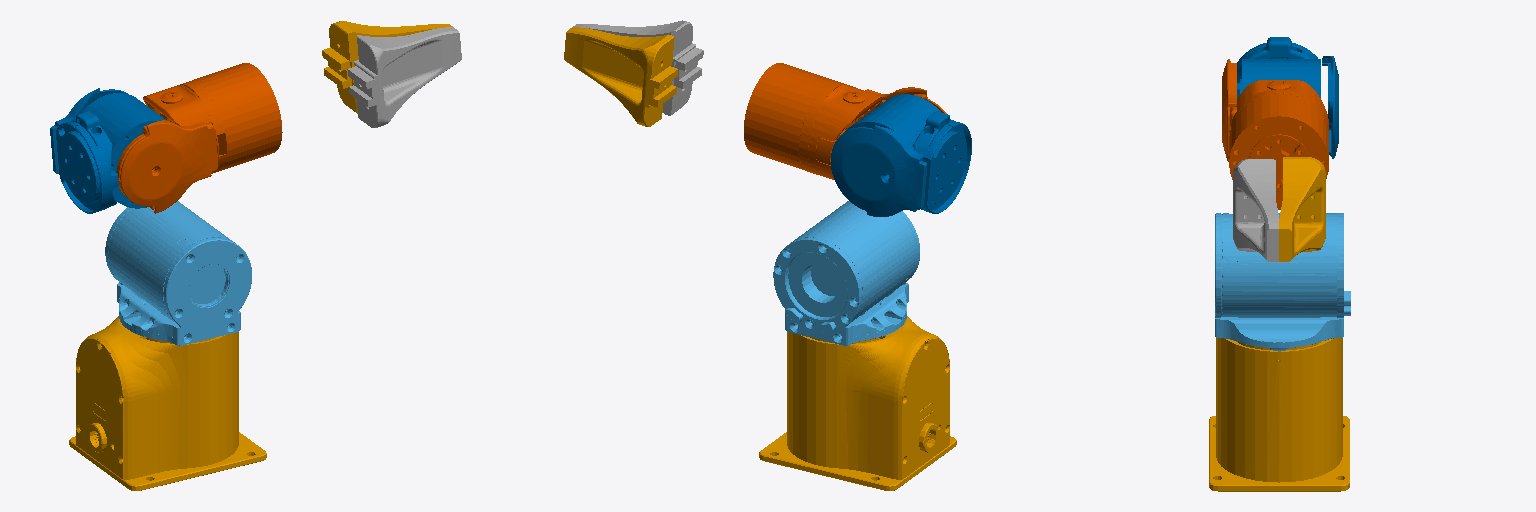
The robot description file, URDF, robot "Piper single":
<?xml version="1.0" ?>
<!-- =================================================================================== -->
<!-- |    This document was autogenerated by xacro from robot.xacro                    | -->
<!-- |    EDITING THIS FILE BY HAND IS NOT RECOMMENDED                                 | -->
<!-- =================================================================================== -->
<robot name="Piper single">
  <link name="base_link">
    <inertial>
      <origin xyz="-0.00473641164191482 2.56829134630247E-05 0.041451518036016"/>
      <mass value="1.02"/>
      <inertia ixx="0.00267433" ixy="-0.00000073" ixz="-0.00017389" iyy="0.00282612" iyz="0.0000004" izz="0.00089624"/>
    </inertial>
    <visual>
      <geometry>
        <mesh filename="package://piper_description/meshes/base_link.obj"/>
      </geometry>
    </visual>
    <collision>
      <geometry>
        <mesh filename="package://piper_description/meshes/base_link.obj"/>
      </geometry>
    </collision>
  </link>
  <link name="link1">
    <inertial>
      <origin xyz="0.000121504734057468 0.000104632162460536 -0.00438597309559853"/>
      <mass value="0.71"/>
      <inertia ixx="0.00048916" ixy="-0.00000036" ixz="-0.00000224" iyy="0.00040472" iyz="-0.00000242" izz="0.00043982"/>
    </inertial>
    <visual>
      <geometry>
        <mesh filename="package://piper_description/meshes/link1.obj"/>
      </geometry>
    </visual>
    <collision>
      <geometry>
        <mesh filename="package://piper_description/meshes/link1.obj"/>
      </geometry>
    </collision>
  </link>
  <joint name="joint1" type="revolute">
    <origin rpy="0 0 0" xyz="0 0 0.123"/>
    <parent link="base_link"/>
    <child link="link1"/>
    <axis xyz="0 0 1"/>
    <limit effort="100" lower="-2.618" upper="2.618" velocity="5"/>
  </joint>
  <link name="link2">
    <inertial>
      <origin rpy="0 0 0" xyz="0.198666145229743 -0.010926924140076 0.00142121714502687"/>
      <mass value="1.17"/>
      <inertia ixx="0.00116918" ixy="-0.00180037" ixz="0.00025146" iyy="0.06785384" iyz="-0.00000455" izz="0.06774489"/>
    </inertial>
    <visual>
      <geometry>
        <mesh filename="package://piper_description/meshes/link2.obj"/>
      </geometry>
    </visual>
    <collision>
      <geometry>
        <mesh filename="package://piper_description/meshes/link2.obj"/>
      </geometry>
    </collision>
  </link>
  <joint name="joint2" type="revolute">
    <origin rpy="1.5708 -0.1359 -3.1416" xyz="0 0 0"/>
    <parent link="link1"/>
    <child link="link2"/>
    <axis xyz="0 0 1"/>
    <limit effort="100" lower="0" upper="3.14" velocity="5"/>
  </joint>
  <link name="link3">
    <inertial>
      <origin rpy="0 0 0" xyz="-0.0202737662122021 -0.133914995944595 -0.000458682652737356"/>
      <mass value="0.5"/>
      <inertia ixx="0.01361711" ixy="0.00165794" ixz="-0.00000048" iyy="0.00045024" iyz="-0.00000045" izz="0.01380322"/>
    </inertial>
    <visual>
      <geometry>
        <mesh filename="package://piper_description/meshes/link3.obj"/>
      </geometry>
    </visual>
    <collision>
      <geometry>
        <mesh filename="package://piper_description/meshes/link3.obj"/>
      </geometry>
    </collision>
  </link>
  <joint name="joint3" type="revolute">
    <origin rpy="0 0 -1.7939" xyz="0.28503 0 0"/>
    <parent link="link2"/>
    <child link="link3"/>
    <axis xyz="0 0 1"/>
    <limit effort="100" lower="-2.967" upper="0" velocity="5"/>
  </joint>
  <link name="link4">
    <inertial>
      <origin rpy="0 0 0" xyz="-9.66635791618542E-05 0.000876064475651083 -0.00496880904640868"/>
      <mass value="0.38"/>
      <inertia ixx="0.00018501" ixy="0.00000054" ixz="0.00000120" iyy="0.00018965" iyz="-0.00000841" izz="0.00015484"/>
    </inertial>
    <visual>
      <geometry>
        <mesh filename="package://piper_description/meshes/link4.obj"/>
      </geometry>
    </visual>
    <collision>
      <geometry>
        <mesh filename="package://piper_description/meshes/link4.obj"/>
      </geometry>
    </collision>
  </link>
  <joint name="joint4" type="revolute">
    <origin rpy="1.5708 0 0" xyz="-0.021984 -0.25075 0"/>
    <parent link="link3"/>
    <child link="link4"/>
    <axis xyz="0 0 1"/>
    <limit effort="100" lower="-1.745" upper="1.745" velocity="5"/>
  </joint>
  <link name="link5">
    <inertial>
      <origin rpy="0 0 0" xyz="-4.10554118924211E-05 -0.0566486692356075 -0.0037205791677906"/>
      <mass value="0.383"/>
      <inertia ixx="0.00166169" ixy="0.00000006" ixz="-0.00000007" iyy="0.00018510" iyz="0.00001026" izz="0.00164321"/>
    </inertial>
    <visual>
      <geometry>
        <mesh filename="package://piper_description/meshes/link5.obj"/>
      </geometry>
    </visual>
    <collision>
      <geometry>
        <mesh filename="package://piper_description/meshes/link5.obj"/>
      </geometry>
    </collision>
  </link>
  <joint name="joint5" type="revolute">
    <origin rpy="-1.5708 0 0" xyz="0 0 0"/>
    <parent link="link4"/>
    <child link="link5"/>
    <axis xyz="0 0 1"/>
    <limit effort="100" lower="-1.22" upper="1.22" velocity="5"/>
  </joint>
  <joint name="joint6" type="revolute">
    <origin rpy="1.5708 0 0" xyz="0 -0.091 0"/>
    <parent link="link5"/>
    <child link="link6"/>
    <axis xyz="0 0 1"/>
    <limit effort="100" lower="-2.0944" upper="2.0944" velocity="3"/>
  </joint>
  <link name="link6">
    <inertial>
      <origin xyz="-0.000183807162235591 8.05033155577911E-05 0.0321436689908876"/>
      <mass value="0.657"/>
      <inertia ixx="0.00092934" ixy="0.00000034" ixz="-0.00000738" iyy="0.00071447" iyz="0.00000005" izz="0.00039442"/>
    </inertial>
    <visual>
      <geometry>
        <mesh filename="package://piper_description/meshes/link6.obj"/>
      </geometry>
    </visual>
    <collision>
      <geometry>
        <mesh filename="package://piper_description/meshes/link6.obj"/>
      </geometry>
    </collision>
  </link>
  <link name="link7">
    <inertial>
      <origin rpy="0 0 0" xyz="0.00065123185041968 -0.0491929869131989 0.00972258769184025"/>
      <mass value="0.025"/>
      <inertia ixx="0.00007371" ixy="-0.00000113" ixz="0.00000021" iyy="0.00000781" iyz="-0.00001372" izz="0.0000747"/>
    </inertial>
    <visual>
      <geometry>
        <mesh filename="package://piper_description/meshes/link7.obj"/>
      </geometry>
    </visual>
    <collision>
      <geometry>
        <mesh filename="package://piper_description/meshes/link7.obj"/>
      </geometry>
    </collision>
  </link>
  <joint name="joint7" type="prismatic">
    <origin xyz="0 0 0.1358"/>
    <parent link="link6"/>
    <child link="link7"/>
    <axis xyz="0 -1 0"/>
    <limit effort="10" lower="0" upper="0.035" velocity="1"/>
  </joint>
  <link name="link8">
    <inertial>
      <origin xyz="0.000651231850419722 -0.0491929869131991 0.00972258769184024"/>
      <mass value="0.025"/>
      <inertia ixx="0.00007371" ixy="-0.00000113" ixz="0.00000021" iyy="0.00000781" iyz="-0.00001372" izz="0.0000747"/>
    </inertial>
    <visual>
      <geometry>
        <mesh filename="package://piper_description/meshes/link8.obj"/>
      </geometry>
    </visual>
    <collision>
      <geometry>
        <mesh filename="package://piper_description/meshes/link8.obj"/>
      </geometry>
    </collision>
  </link>
  <joint name="joint8" type="prismatic">
    <origin xyz="0 0 0.1358"/>
    <parent link="link6"/>
    <child link="link8"/>
    <axis xyz="0 1 0"/>
    <limit effort="10" lower="0" upper="0.035" velocity="1"/>
  </joint>
  <link name="gripper_center"/>
  <joint name="gripper_center_fixed" type="fixed">
    <parent link="link6"/>
    <child link="gripper_center"/>
    <origin xyz="0 0 0.1358" rpy="0 -1.57 0"/>
  </joint>
  <link name="camera"/>
  <joint name="camera_fixed" type="fixed">
    <origin rpy="0 -1.22 0" xyz="-0.073 0 0.041"/>
    <parent link="link6"/>
    <child link="camera"/>
  </joint>
</robot>

--- What the picture shows (computed from the rendered views, not written in the file) ---
Views: 3 orthographic renders of the robot side by side, from view 1: azimuth 30°, elevation 25°; view 2: azimuth 150°, elevation 25°; view 3: azimuth 270°, elevation 25°.
Model Piper single with 11 links and 10 joints (6 revolute, 2 prismatic, 2 fixed), rooted at base_link, posed every joint at zero.
Visible links, largest first — view 1: base_link, link1, link5, link4, link7, link8; view 2: base_link, link1, link4, link5, link8, link7; view 3: base_link, link1, link5, link8, link4, link7.
Link boxes in pixels (x1,y1,x2,y2): base_link: (69, 316, 266, 490); link1: (105, 201, 251, 345); link5: (116, 63, 282, 213); link4: (50, 88, 166, 213); link7: (347, 27, 461, 127); link8: (322, 21, 452, 113); base_link: (759, 316, 956, 490); link1: (773, 201, 919, 345); link4: (831, 94, 971, 216); link5: (744, 63, 946, 179); link8: (564, 27, 677, 126); link7: (573, 20, 703, 115); base_link: (1209, 338, 1349, 491); link1: (1215, 213, 1350, 350); link5: (1222, 59, 1328, 209); link8: (1279, 157, 1325, 261); link4: (1237, 37, 1338, 158); link7: (1233, 159, 1278, 261).
Size in the robot's own frame: 0.2651 by 0.0808 by 0.2472 metres.
6 mesh visuals loaded from 9 distinct referenced files (6 OBJ); not drawn: 3 (reference not matched to a file when rendering).